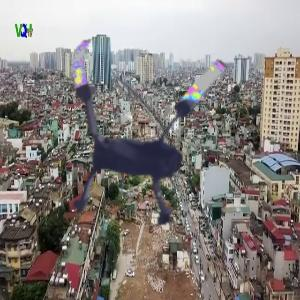drone: (28, 21, 263, 256)
